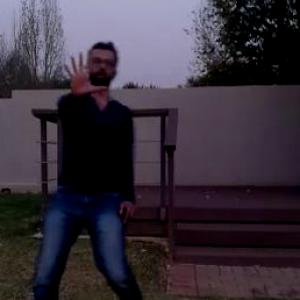follow_hand: (62, 49, 108, 98)
